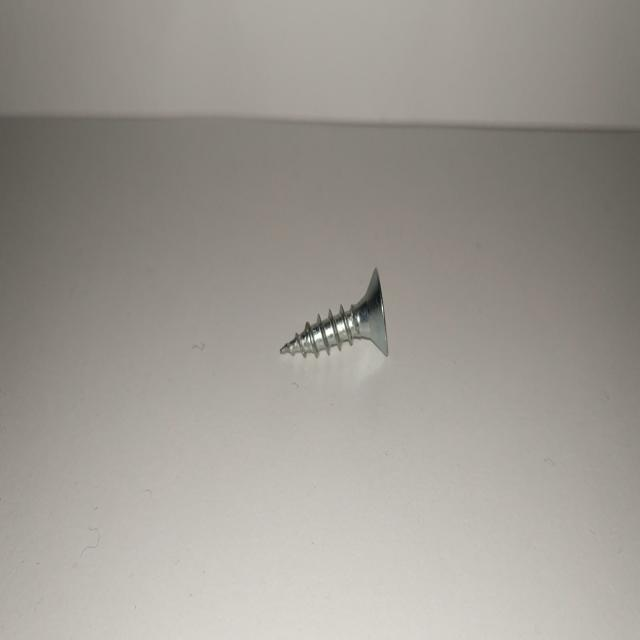Screw: (280, 268, 388, 357)
